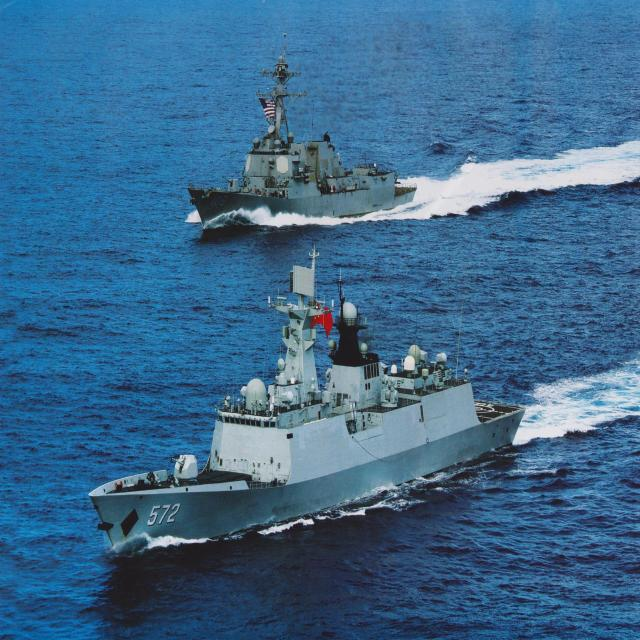navalvessels: (84, 250, 533, 556), (188, 55, 414, 230)
